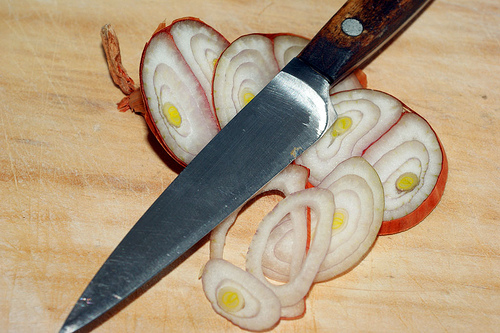onion: (100, 14, 451, 332)
